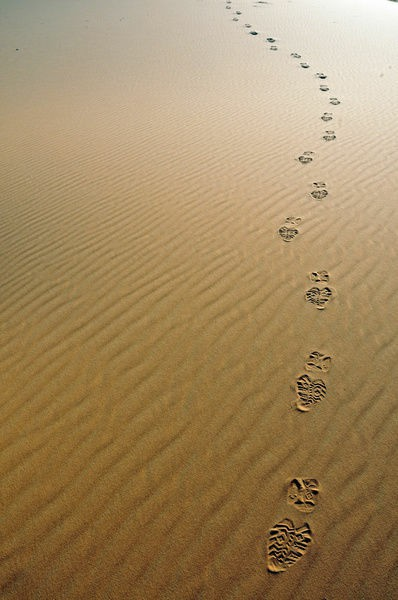human_footprint: (268, 468, 321, 575), (284, 344, 339, 418), (302, 261, 341, 310), (270, 216, 309, 242), (311, 177, 332, 207), (297, 147, 316, 165), (324, 125, 338, 144)
